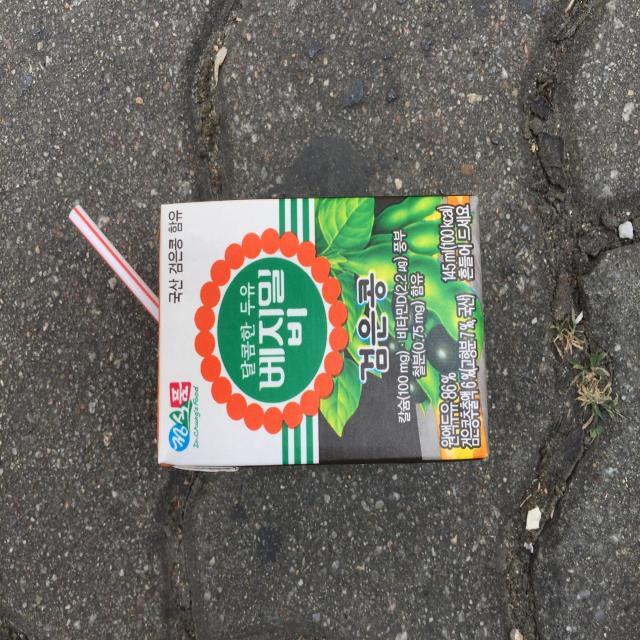paperpack: (157, 195, 489, 470)
